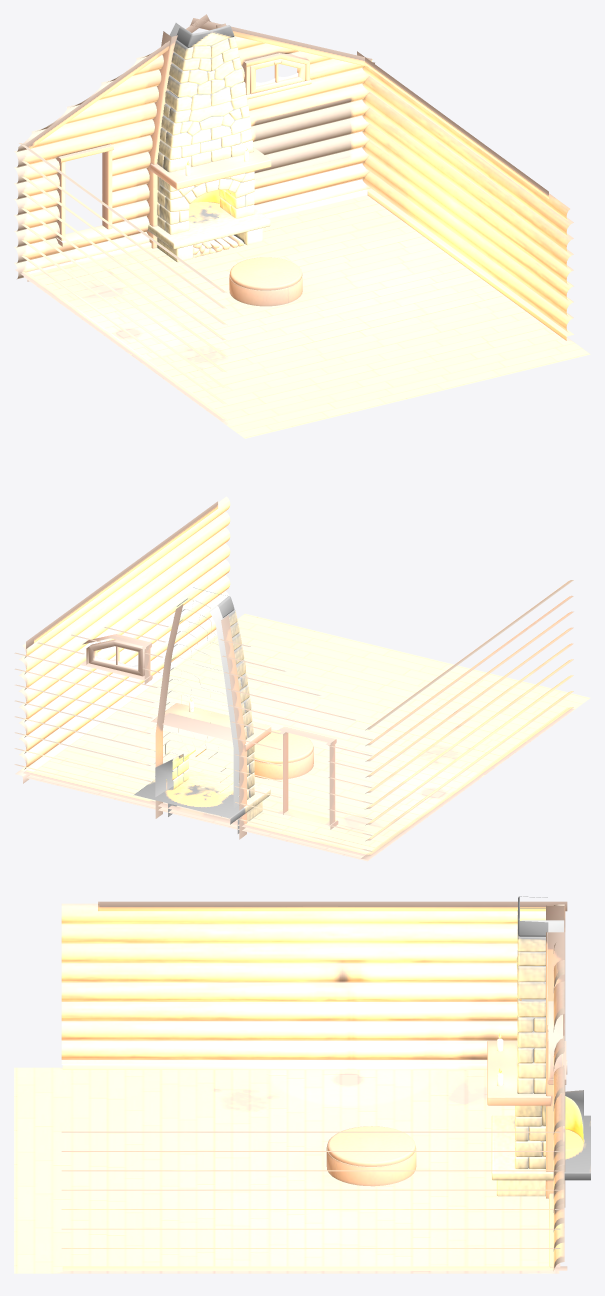
Rendered from room.glb.
The picture shows the model from 3 angles, top to bottom: view 1: azimuth 30°, elevation 25°; view 2: azimuth 150°, elevation 25°; view 3: azimuth 270°, elevation 25°; orthographic projection. The views are drawn at different scales.
Visible parts, largest first — view 1: room-newest.1; view 2: room-newest.1; view 3: room-newest.1.
Part boxes in pixels (box(x1,y1,x2,y2)): room-newest.1: box(14, 14, 590, 438); room-newest.1: box(14, 496, 590, 861); room-newest.1: box(14, 896, 590, 1273).
Size of the model in its own units: 18.34 by 11.2 by 21.01.
